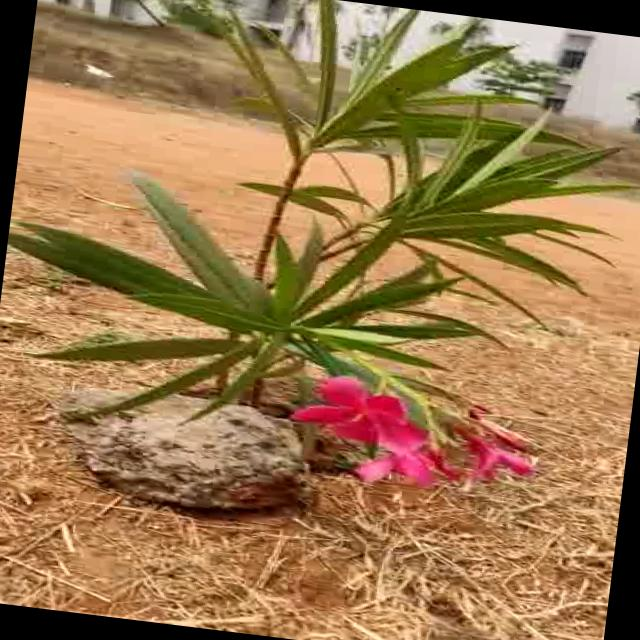Oleander: (78, 4, 629, 460)
